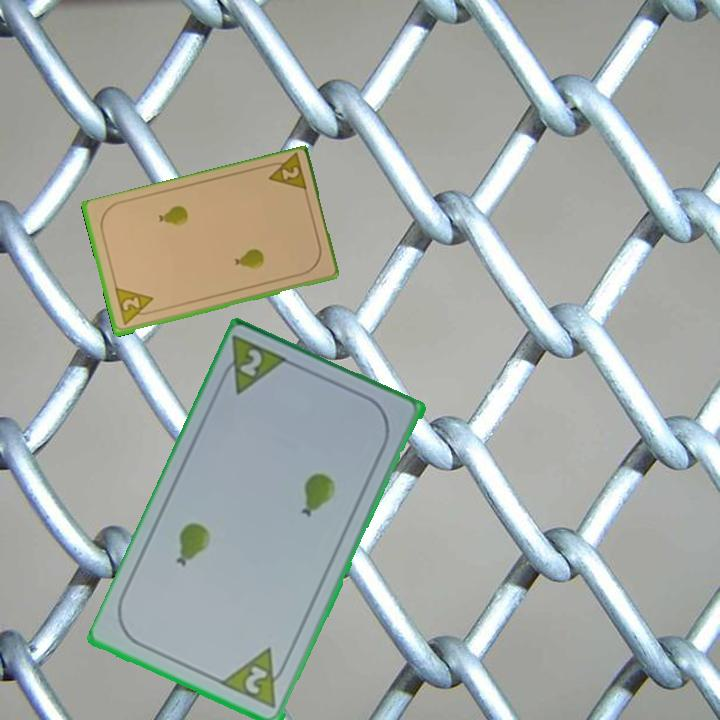2p: (261, 152, 310, 196), (111, 285, 158, 329), (241, 662, 271, 698), (236, 345, 266, 380)
